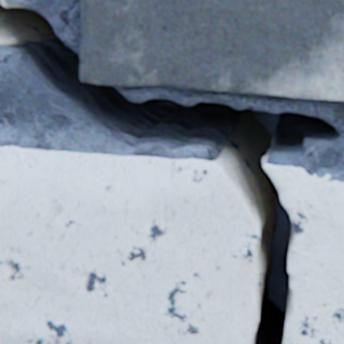brick: (81, 0, 343, 101)
broken_brick: (0, 146, 260, 343), (263, 163, 343, 343)
crack: (0, 0, 343, 343)
